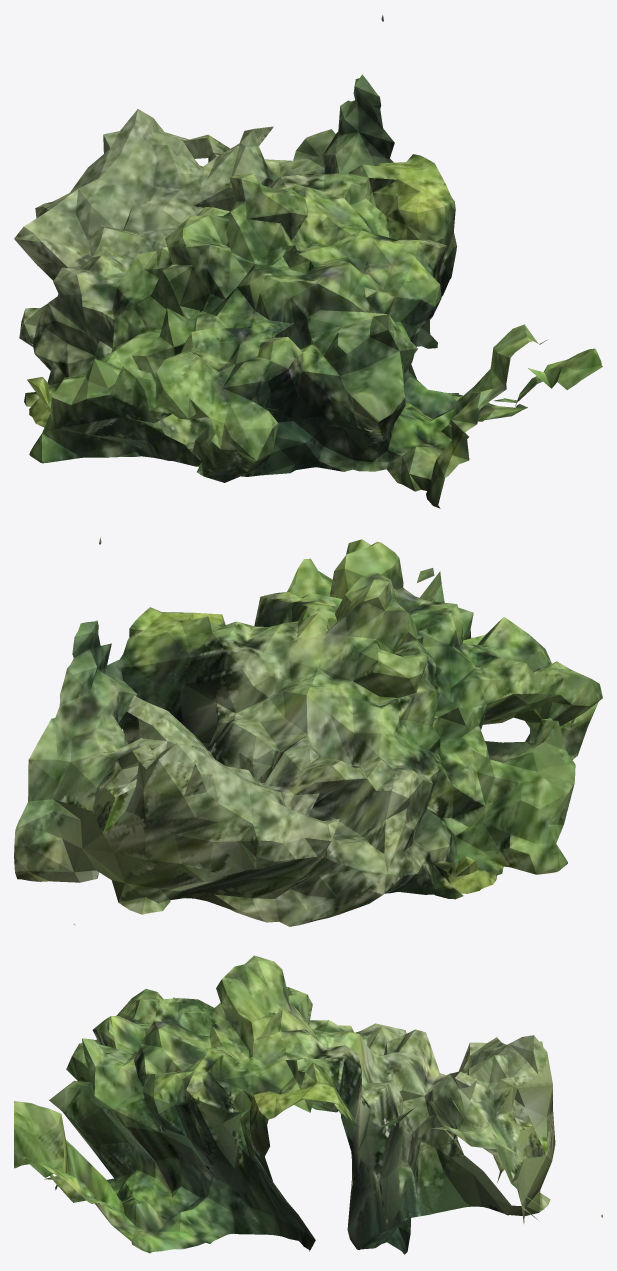
3 renders of one model, top to bottom at view 1: azimuth 30°, elevation 25°; view 2: azimuth 150°, elevation 25°; view 3: azimuth 270°, elevation 25°, orthographic. The views are drawn at different scales.
Bounding box in the file's own units: 18.3 × 12.35 × 26.11.
3 materials, 3 textured.
